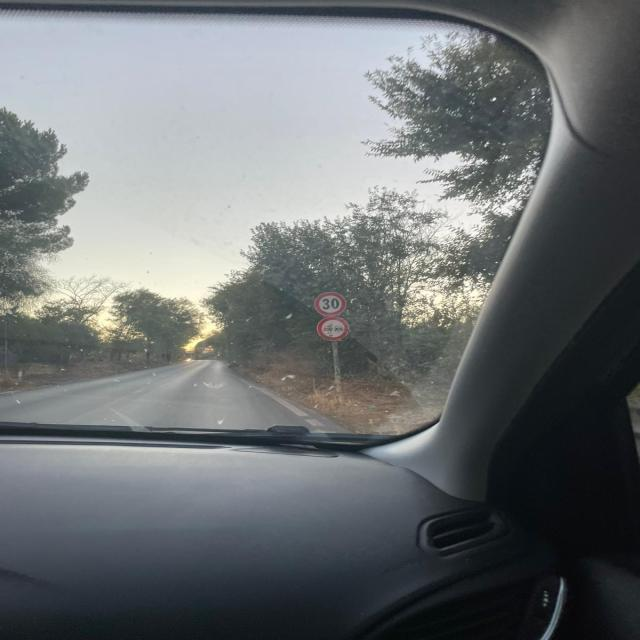forb_overtake: (316, 318, 352, 342)
forb_speed_over_30: (313, 291, 347, 317)
